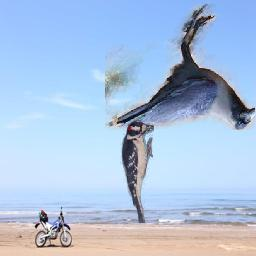Crow: (105, 4, 255, 130)
Woodpecker: (120, 119, 154, 224)
